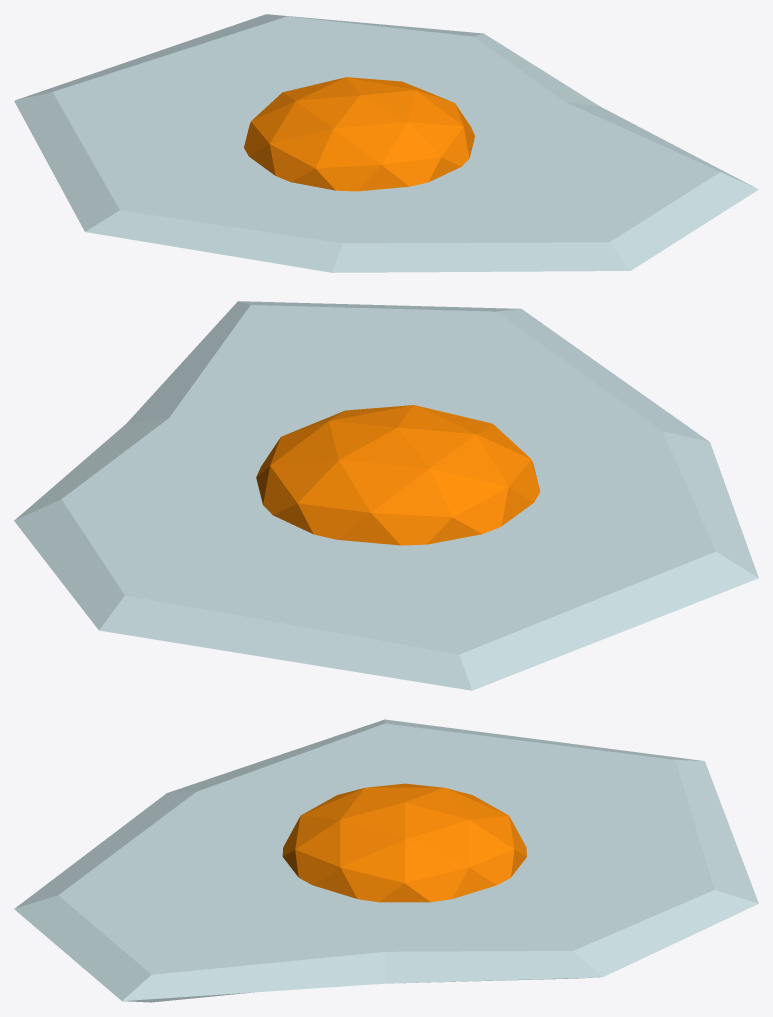
The model's file is Raw Egg.fbx.
3 renders of one model, top to bottom at view 1: azimuth 30°, elevation 25°; view 2: azimuth 150°, elevation 25°; view 3: azimuth 270°, elevation 25°, orthographic. The views are drawn at different scales.
Parts seen in each view (by area): view 1: Raw Egg; view 2: Raw Egg; view 3: Raw Egg.
Boxes of the visible parts, bbox=[...] form: Raw Egg: bbox=[14, 14, 758, 272]; Raw Egg: bbox=[14, 301, 758, 690]; Raw Egg: bbox=[14, 719, 758, 1002].
Bounding box in the file's own units: 8.29 × 1.06 × 9.26.
